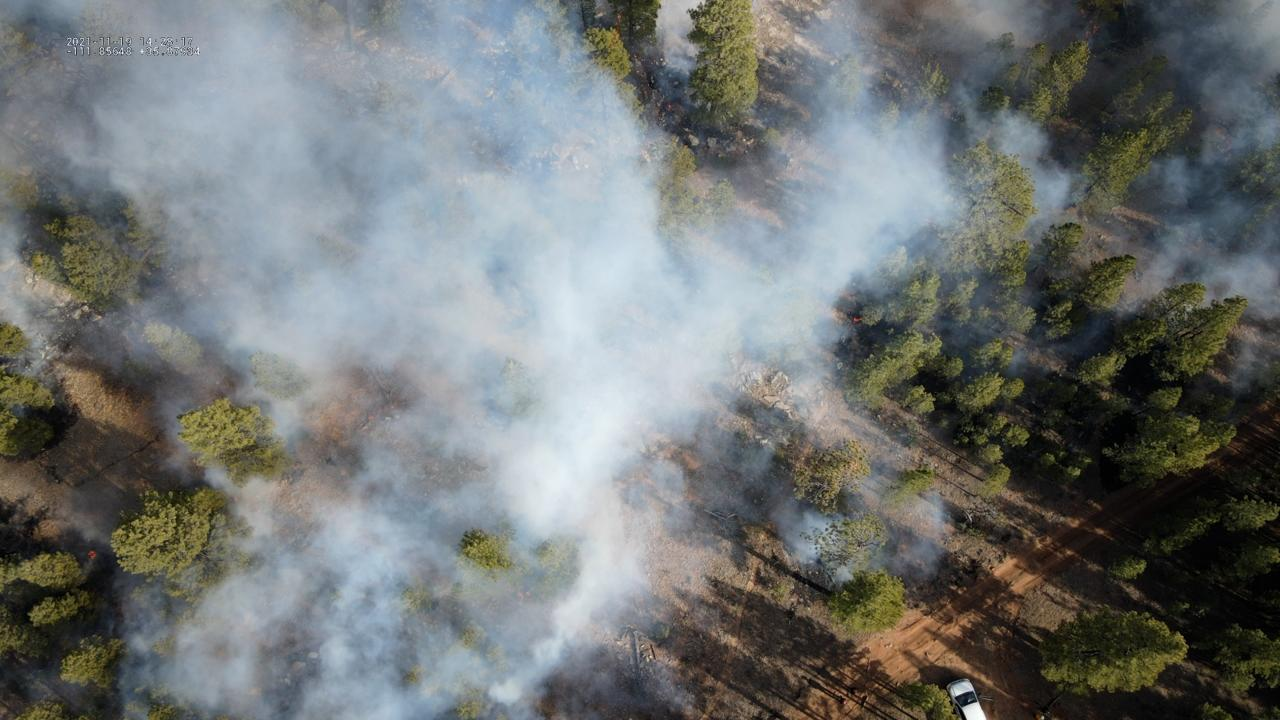fire: (88, 550, 97, 561), (853, 316, 864, 324)
smoke: (0, 0, 1280, 720)
